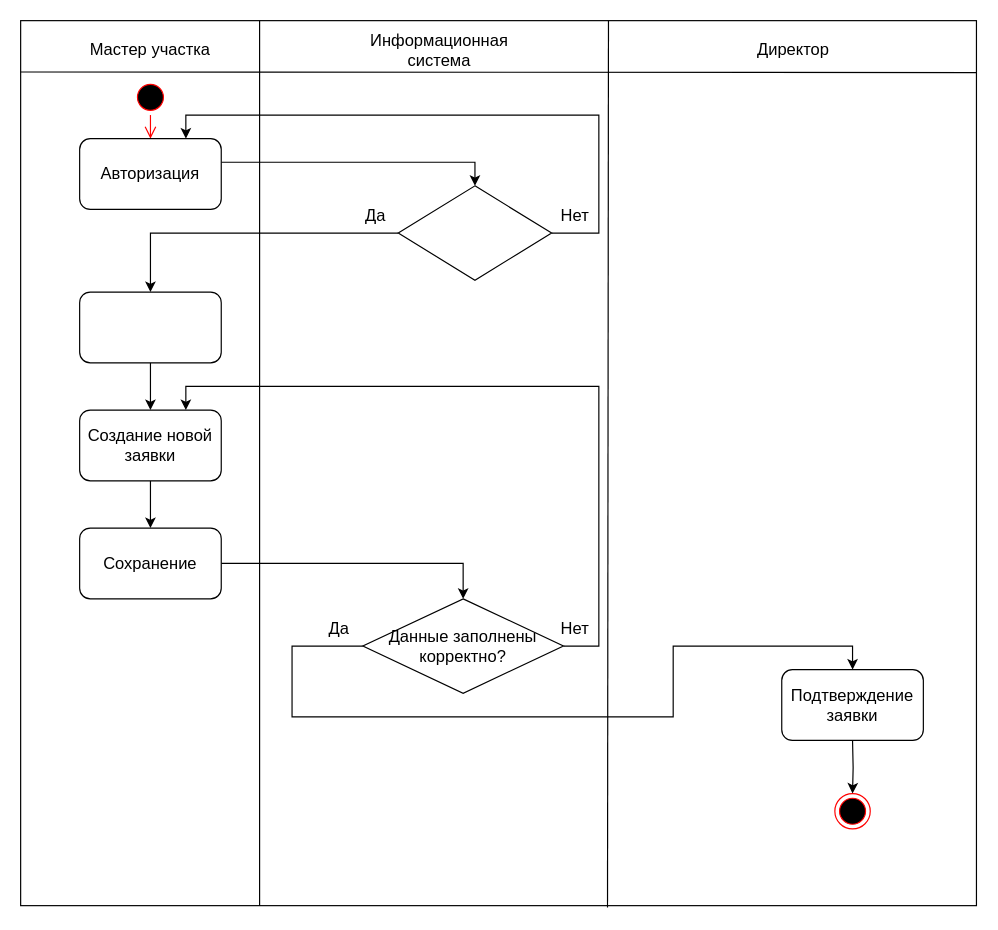
Image size: 998x930. Some labels were removed from this diagram. Each missing label, with the centre of its shape:
Пользователь авторизован?: (x=474, y=232)
Просмотр заявок: (x=149, y=327)
